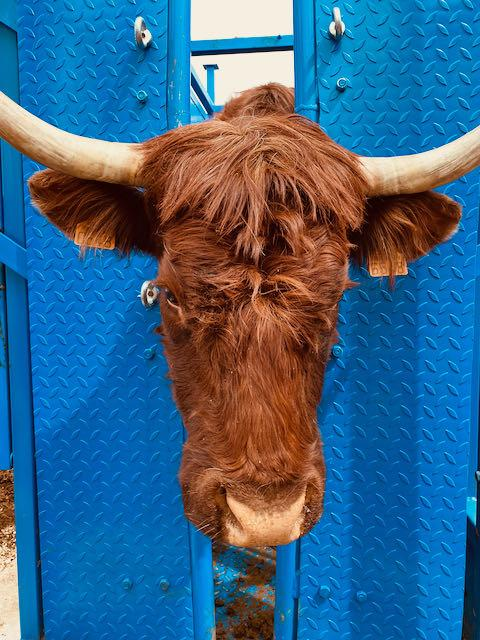muzzles: (169, 472, 329, 550)
